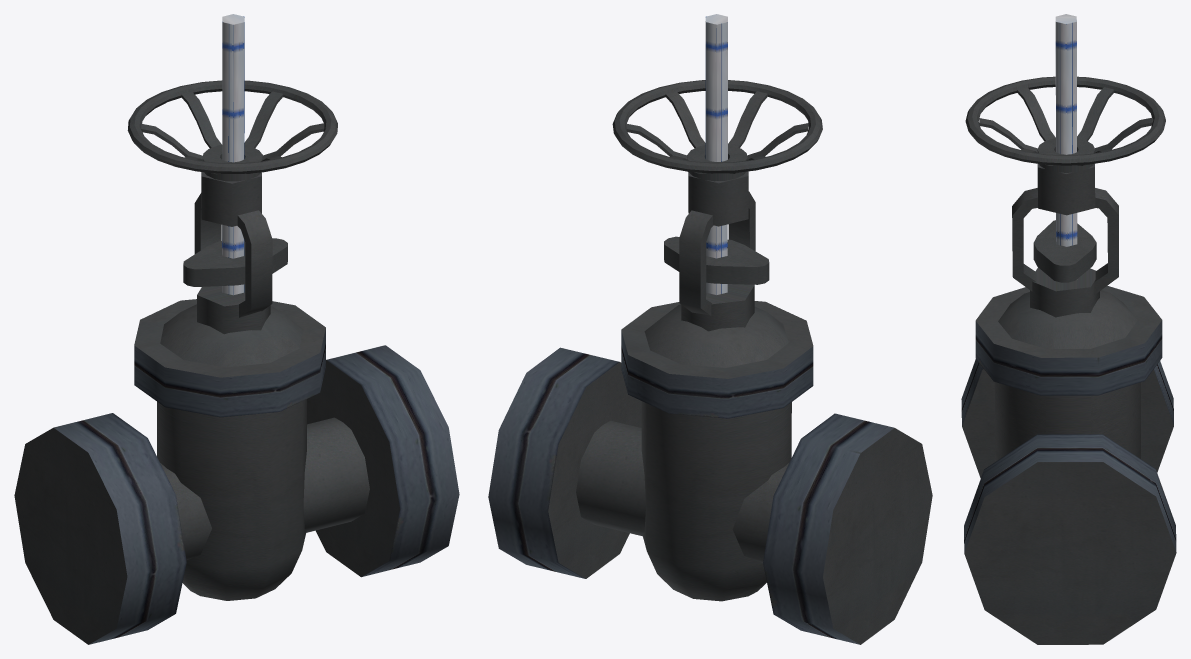
The picture shows the model from 3 angles, left to right: view 1: azimuth 30°, elevation 25°; view 2: azimuth 150°, elevation 25°; view 3: azimuth 270°, elevation 25°; orthographic projection. The views are drawn at different scales.
Parts seen in each view (by area): view 1: 535020; view 2: 535020; view 3: 535020.
Part boxes in pixels (<box>): 535020: <box>14,14,459,644</box>; 535020: <box>488,14,932,644</box>; 535020: <box>961,14,1176,644</box>.
Size of the model in its own units: 1.01 by 1.67 by 0.5924.
3 materials, 3 textured.
